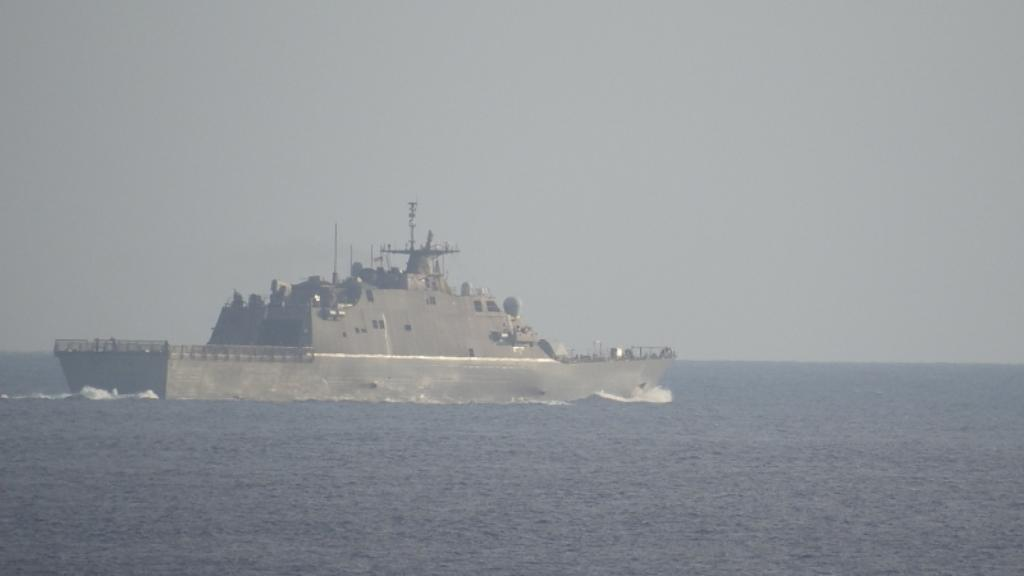Warship: (50, 196, 680, 402)
